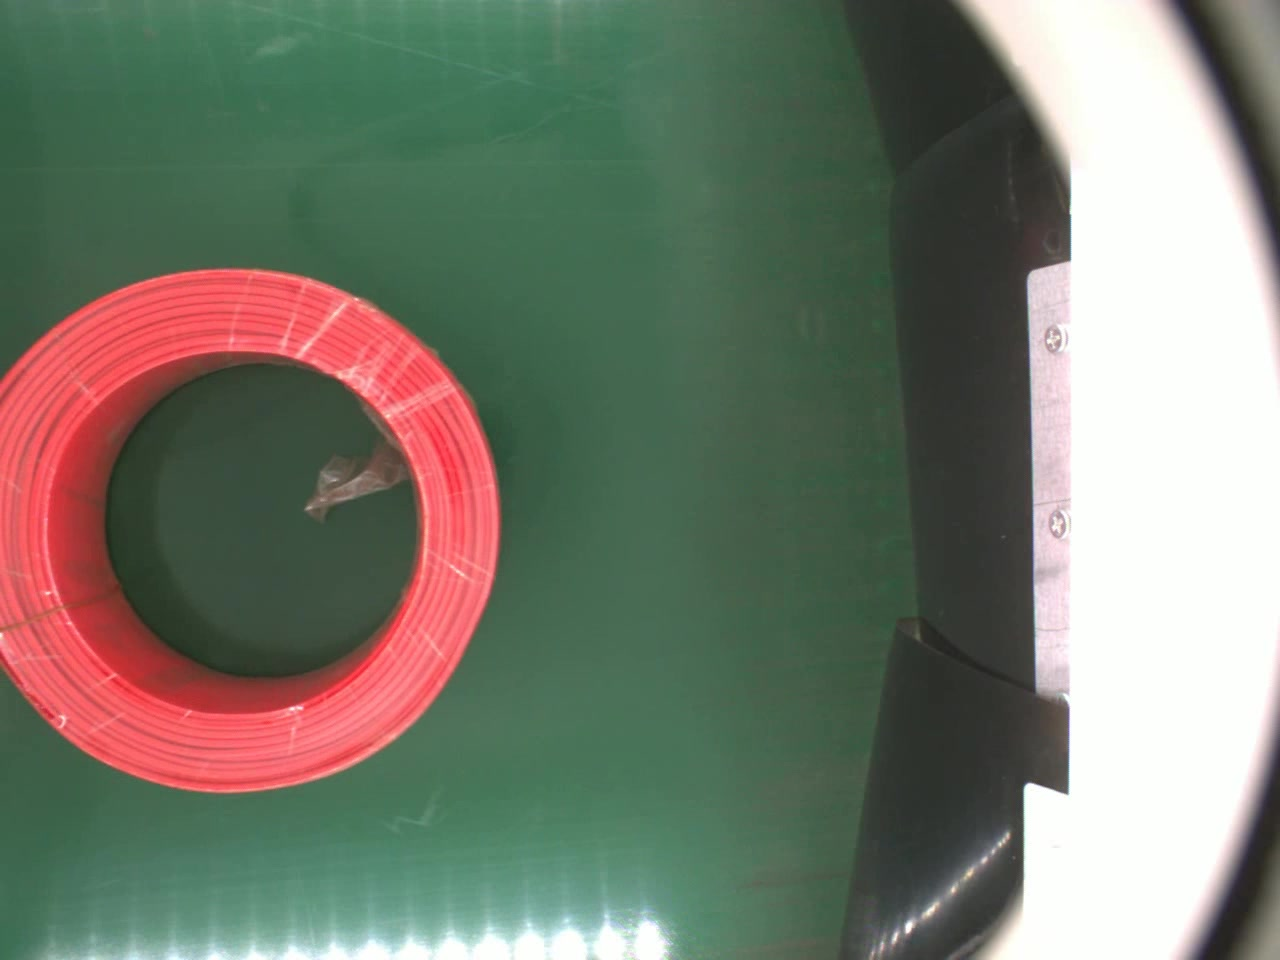red: (0, 259, 500, 798)
